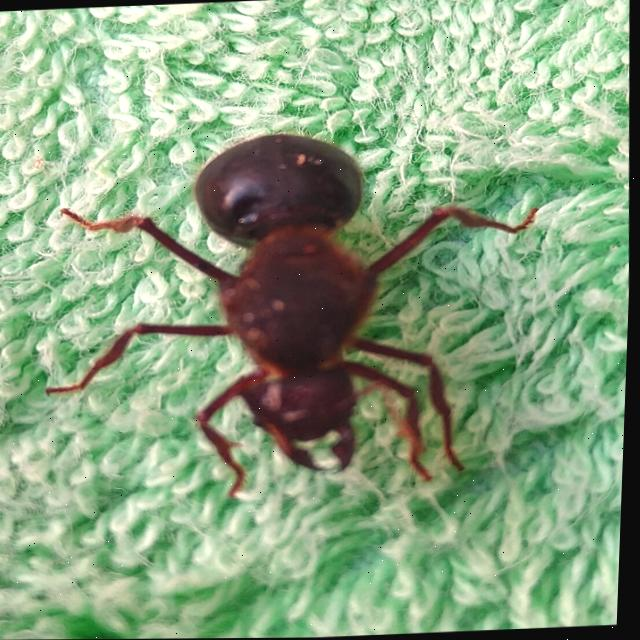Alive-Female-Dealate: (36, 122, 553, 508)
